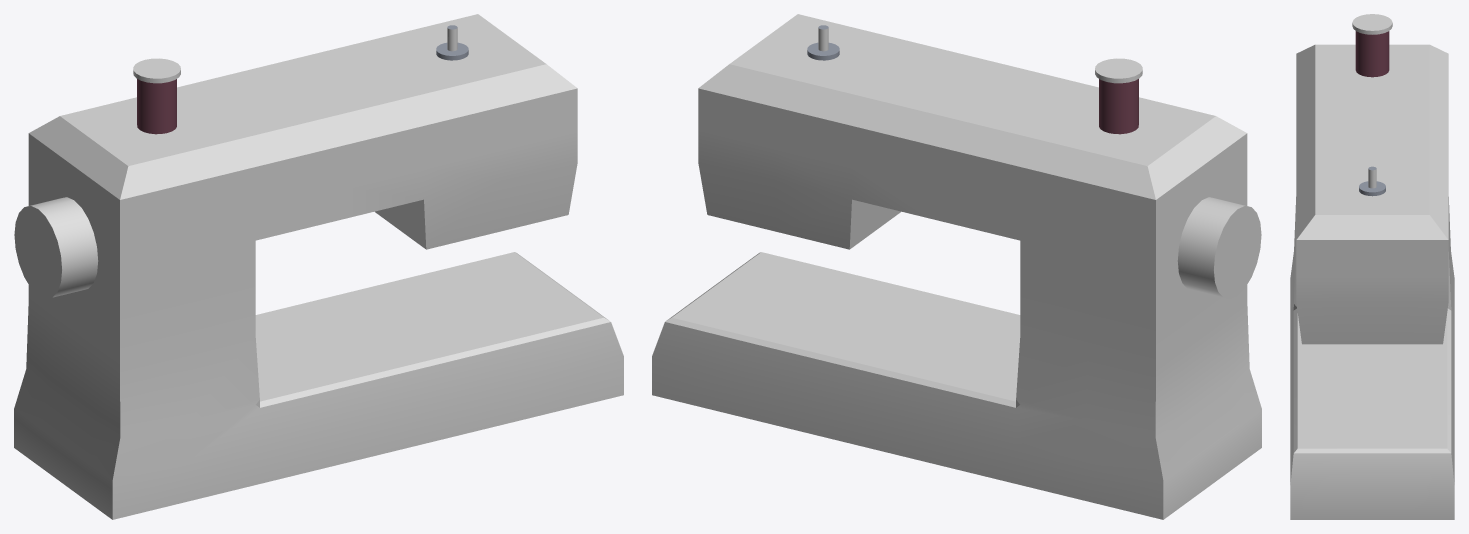
Rendered from ミシン.fbx.
3 renders of one model, left to right at view 1: azimuth 30°, elevation 25°; view 2: azimuth 150°, elevation 25°; view 3: azimuth 270°, elevation 25°, orthographic. The views are drawn at different scales.
Visible parts, largest first — view 1: pCylinder4; view 2: pCylinder4; view 3: pCylinder4.
Part boxes in pixels (x1=…): pCylinder4: x1=14, y1=14, x2=623, y2=519; pCylinder4: x1=652, y1=14, x2=1261, y2=519; pCylinder4: x1=1290, y1=14, x2=1454, y2=519.
Bounding box in the file's own units: 5.38 × 3.76 × 1.71.
